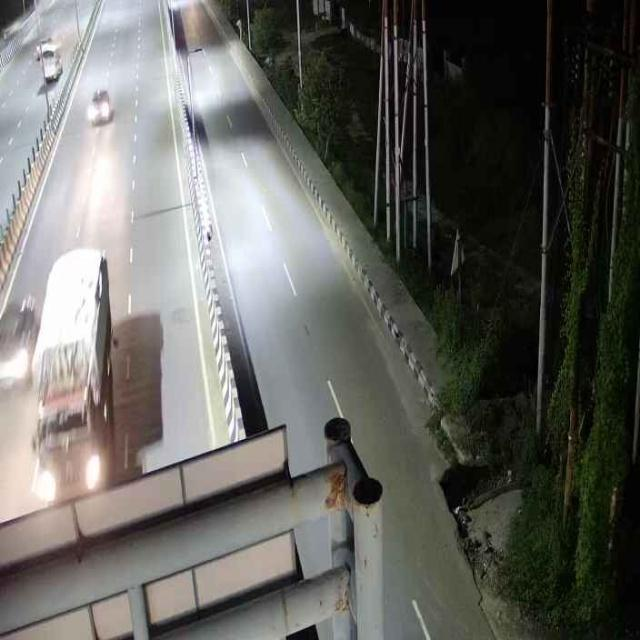car: (1, 289, 33, 389), (85, 83, 117, 127)
